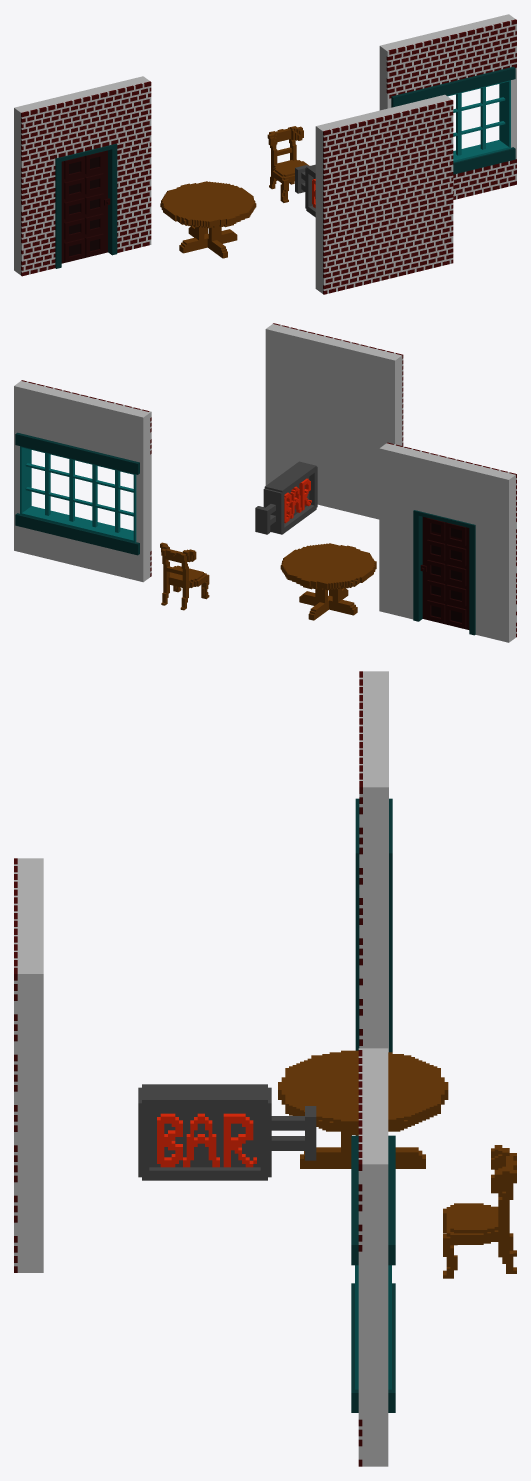
3 renders of one model, top to bottom at view 1: azimuth 30°, elevation 25°; view 2: azimuth 150°, elevation 25°; view 3: azimuth 270°, elevation 25°, orthographic. The views are drawn at different scales.
Parts seen in each view (by area): view 1: bar wall and interior.002, bar wall and interior.003, bar wall and interior.004, bar wall and interior.005, bar wall and interior, bar wall and interior.001; view 2: bar wall and interior.003, bar wall and interior.002, bar wall and interior.004, bar wall and interior.005, bar wall and interior.001, bar wall and interior; view 3: bar wall and interior.004, bar wall and interior.001, bar wall and interior.003, bar wall and interior.002, bar wall and interior.005, bar wall and interior.
Part boxes in pixels (x1,y1,x2,y2): bar wall and interior.002: (315, 94, 453, 294); bar wall and interior.003: (14, 76, 151, 276); bar wall and interior.004: (379, 14, 516, 199); bar wall and interior.005: (160, 181, 256, 258); bar wall and interior: (267, 126, 309, 202); bar wall and interior.001: (295, 164, 315, 217); bar wall and interior.003: (379, 442, 516, 642); bar wall and interior.002: (265, 323, 403, 519); bar wall and interior.004: (14, 380, 151, 582); bar wall and interior.005: (280, 543, 376, 620); bar wall and interior.001: (255, 461, 317, 534); bar wall and interior: (160, 542, 209, 610); bar wall and interior.004: (351, 1048, 395, 1466); bar wall and interior.001: (138, 1084, 316, 1180); bar wall and interior.003: (355, 671, 392, 1052); bar wall and interior.002: (14, 858, 43, 1272); bar wall and interior.005: (278, 1050, 448, 1168); bar wall and interior: (443, 1145, 516, 1278).
Bounding box in the file's own units: 2831 × 1048 × 1358.
Materials: 2 (1 with a texture image).
